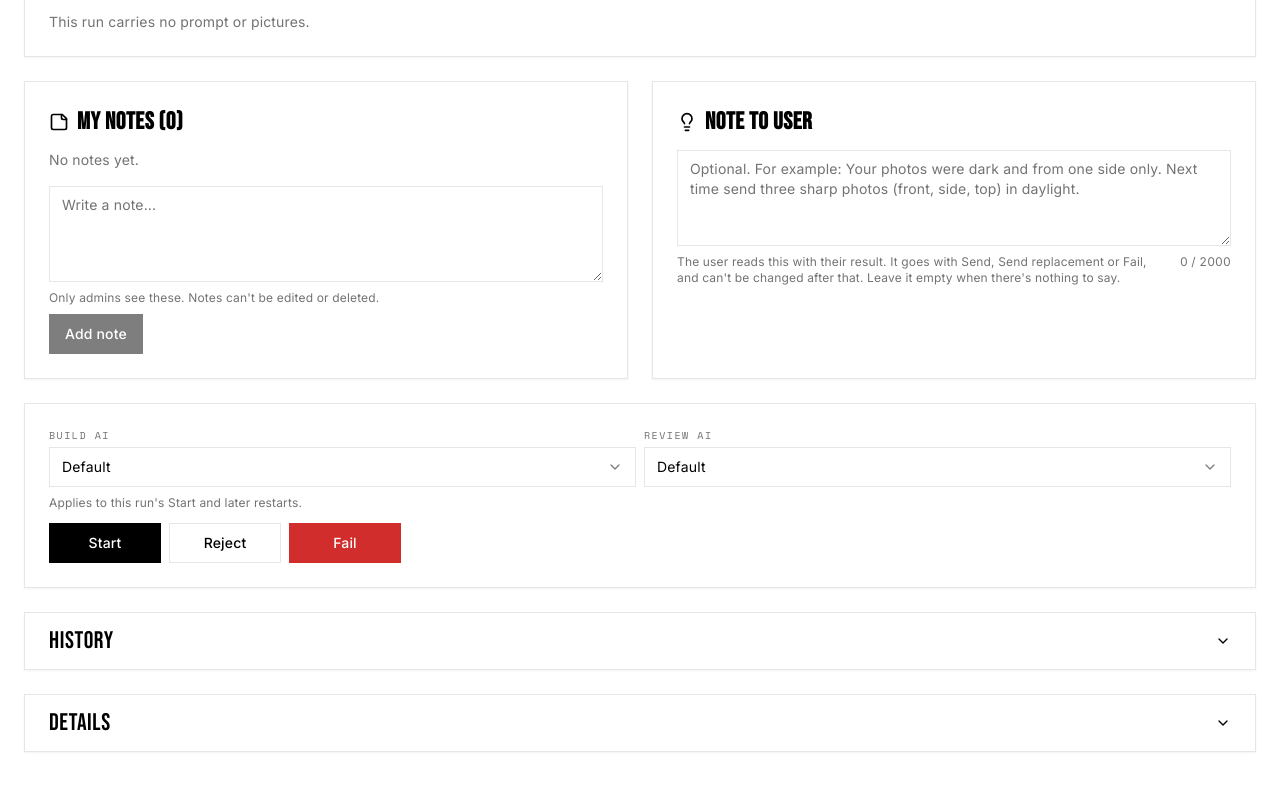
Test: AdminCadQueueDetailPage › says nothing happened when the reject signal fails
The width and height of the screenshot is (1280, 800).
(page scrolled)
Click the button "Reject" at [225, 543], box x1=169 y1=523 x2=281 y2=563
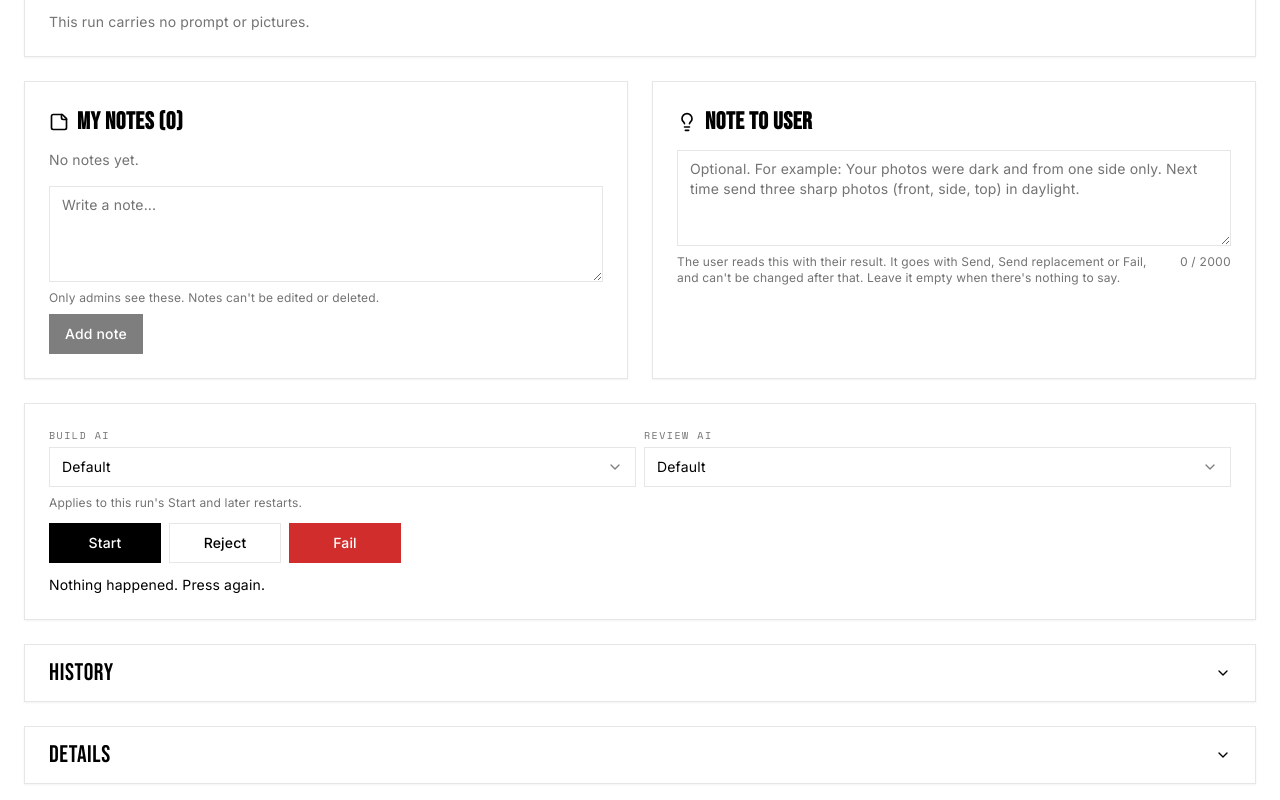
Expected: the text "Nothing happened. Press again." is shown, x1=49 y1=576 x2=265 y2=593
